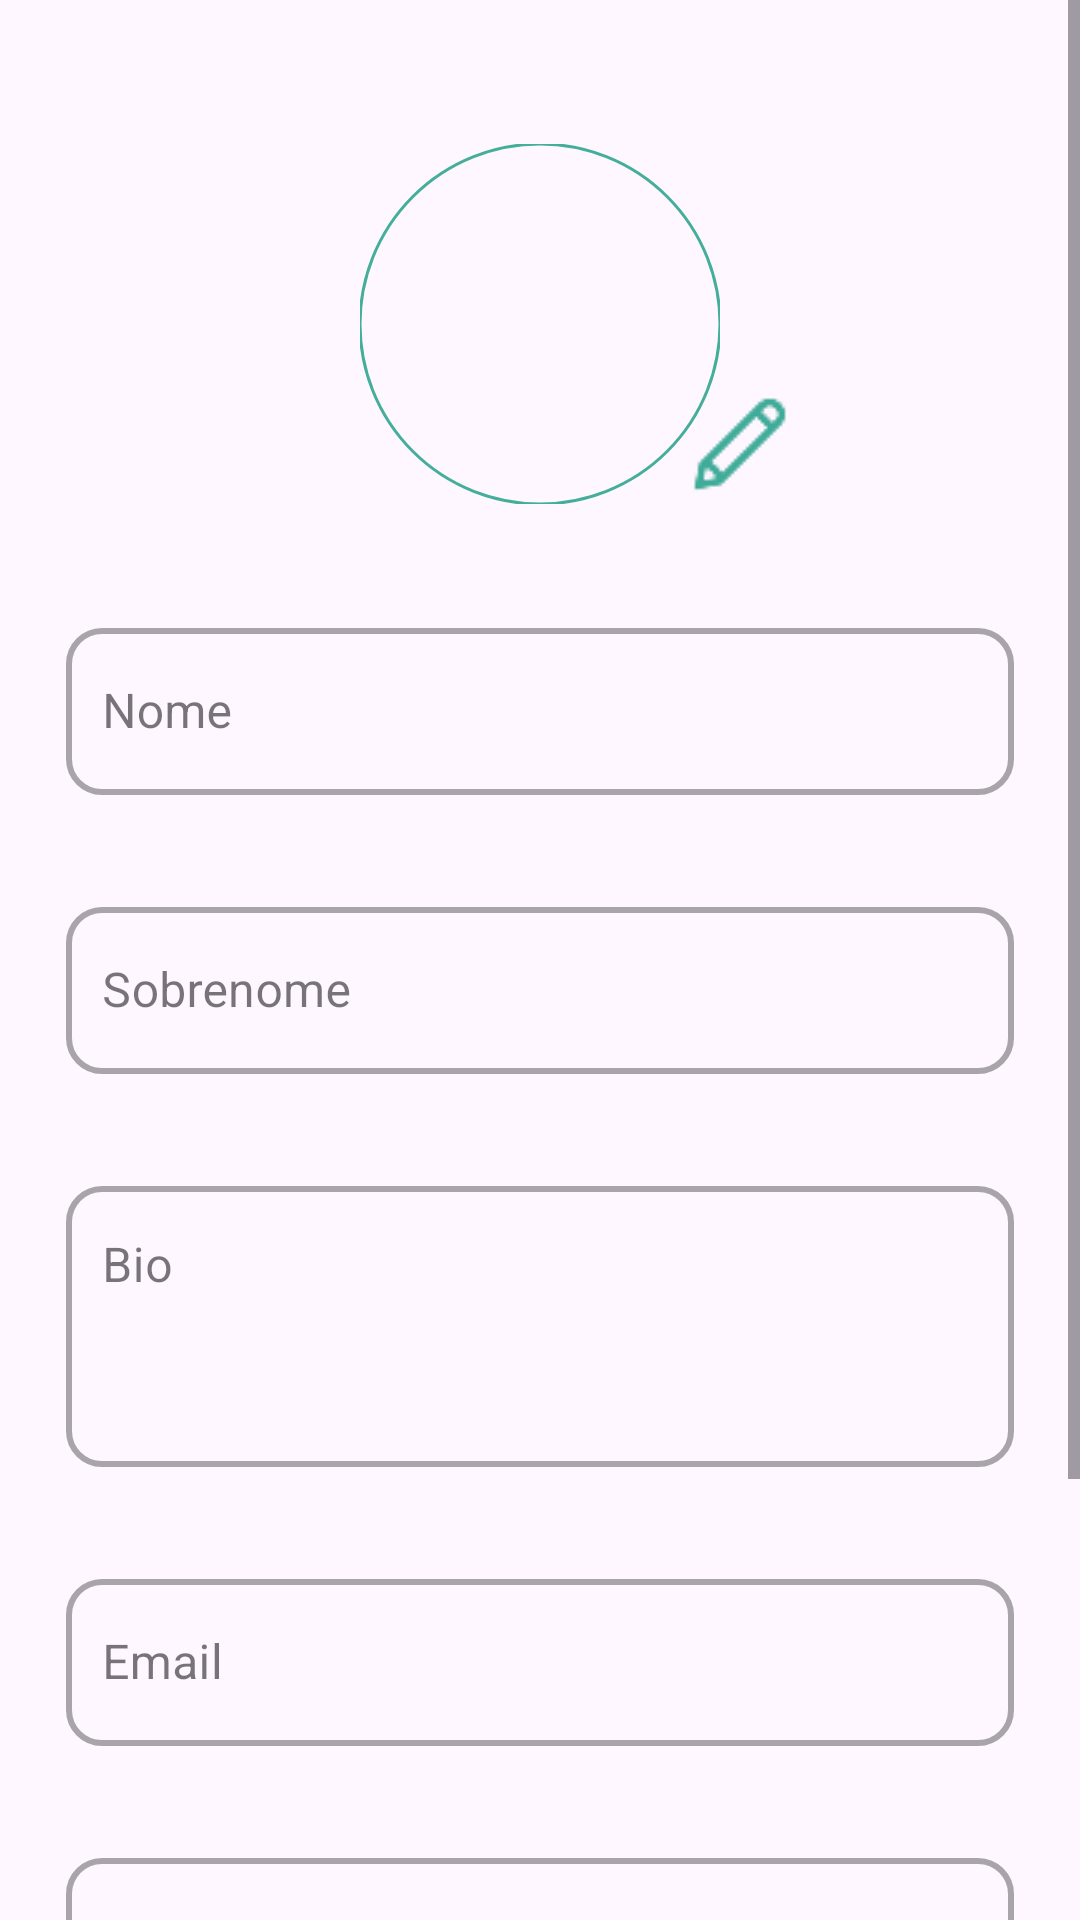

Screen size 1080 x 1920. Icon name, then its center in pixels as (x=x, y=y):
Editar foto: (x=740, y=444)
